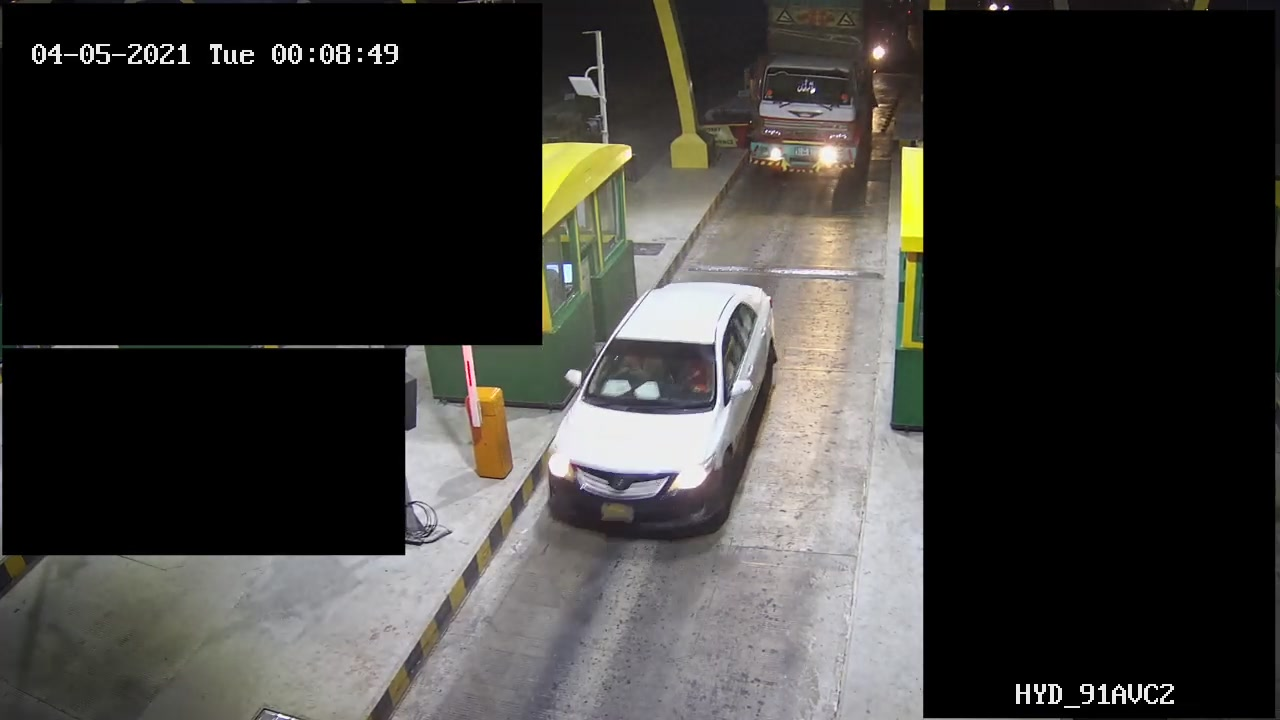F1: (537, 278, 787, 541)
